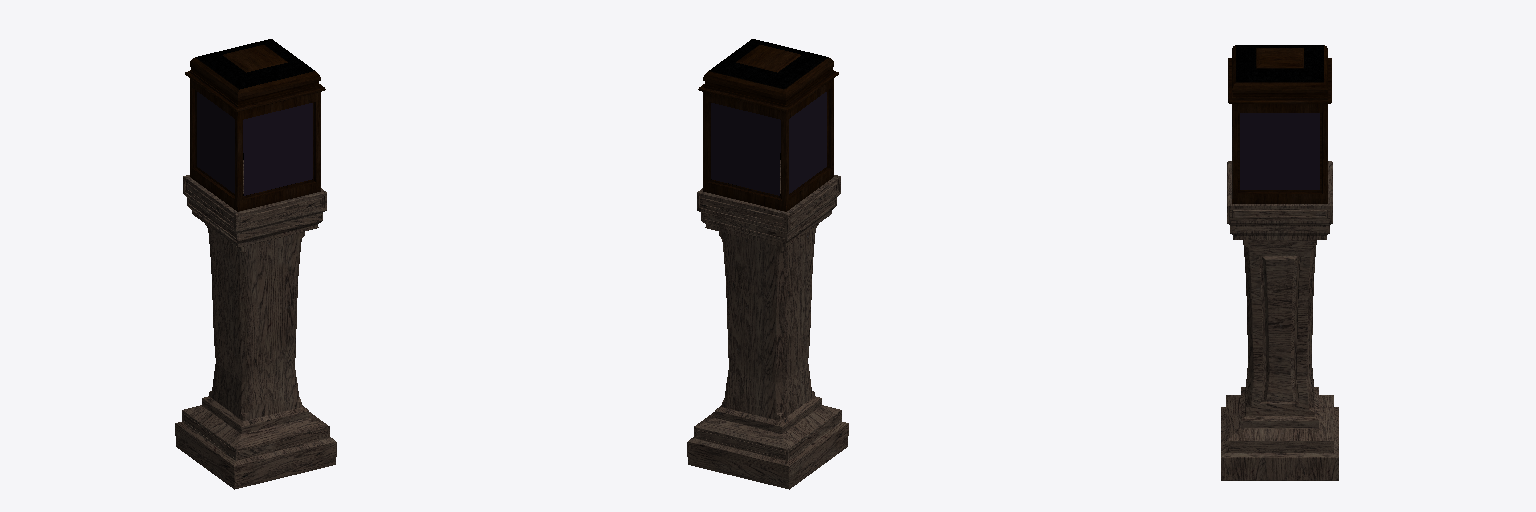
3 renders of one model, left to right at view 1: azimuth 30°, elevation 25°; view 2: azimuth 150°, elevation 25°; view 3: azimuth 270°, elevation 25°, orthographic.
Parts seen in each view (by area): view 1: obj1, obj2; view 2: obj1, obj2; view 3: obj1, obj2.
Boxes of the visible parts, box(x1,y1,x2,y2) form: obj1: box(175, 39, 336, 489); obj2: box(197, 92, 312, 195); obj1: box(687, 39, 848, 489); obj2: box(711, 92, 826, 195); obj1: box(1221, 45, 1338, 480); obj2: box(1240, 113, 1319, 189).
Size of the model in its own units: 0.426 by 1.59 by 0.426.
Materials: 2 (1 with a texture image).